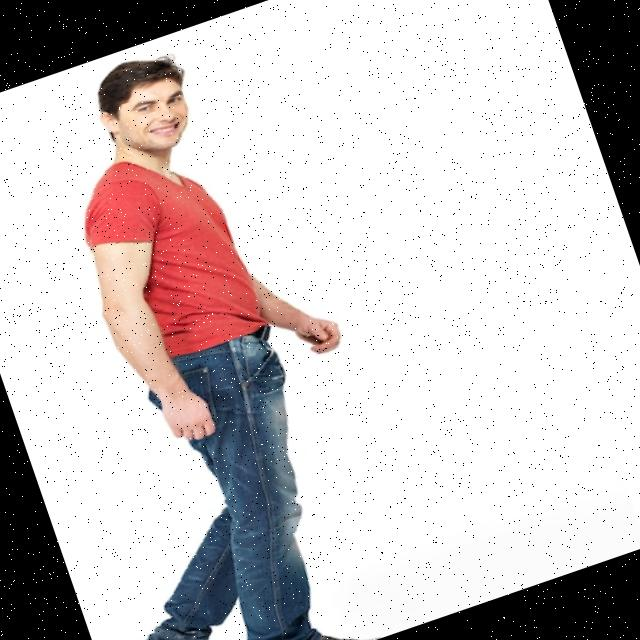Person: (0, 23, 438, 640)
